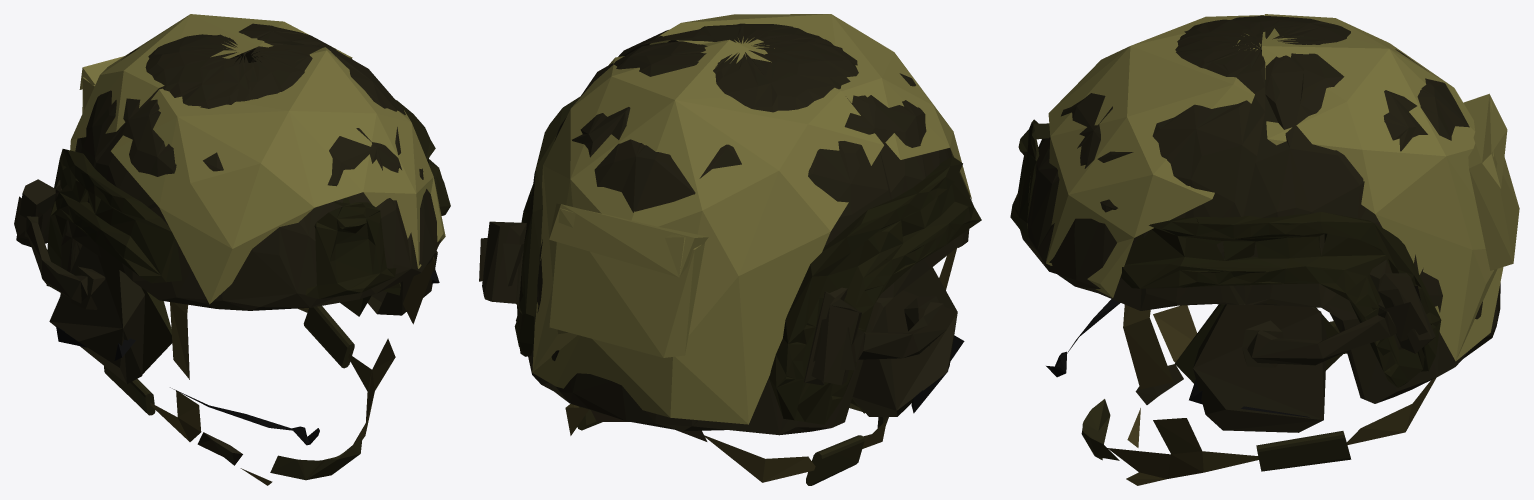
The model's file is HelmetHeadset.obj.
3 renders of one model, left to right at view 1: azimuth 30°, elevation 25°; view 2: azimuth 150°, elevation 25°; view 3: azimuth 270°, elevation 25°, orthographic. The views are drawn at different scales.
Parts seen in each view (by area): view 1: HelmetHeadset_plastictan, HelmetHeadset_camoarmour, HelmetHeadset_olivehardplastic, HelmetHeadset_ziptan, HelmetHeadset_kneepad_strapping, HelmetHeadset_greenplastic, HelmetHeadset_dark_plastic; view 2: HelmetHeadset_camoarmour, HelmetHeadset_plastictan, HelmetHeadset_olivehardplastic, HelmetHeadset_ziptan, HelmetHeadset_kneepad_strapping; view 3: HelmetHeadset_plastictan, HelmetHeadset_camoarmour, HelmetHeadset_olivehardplastic, HelmetHeadset_ziptan, HelmetHeadset_kneepad_strapping, HelmetHeadset_greenplastic, HelmetHeadset_dark_plastic.
Boxes of the visible parts, left/top/right/bottom form: HelmetHeadset_plastictan: left=14, top=23, right=441, bottom=465; HelmetHeadset_camoarmour: left=70, top=14, right=445, bottom=304; HelmetHeadset_olivehardplastic: left=46, top=100, right=450, bottom=299; HelmetHeadset_ziptan: left=150, top=256, right=435, bottom=485; HelmetHeadset_kneepad_strapping: left=104, top=306, right=362, bottom=480; HelmetHeadset_greenplastic: left=142, top=283, right=400, bottom=374; HelmetHeadset_dark_plastic: left=56, top=269, right=439, bottom=445; HelmetHeadset_camoarmour: left=532, top=14, right=971, bottom=424; HelmetHeadset_plastictan: left=479, top=23, right=969, bottom=435; HelmetHeadset_olivehardplastic: left=514, top=97, right=981, bottom=424; HelmetHeadset_ziptan: left=565, top=248, right=956, bottom=482; HelmetHeadset_kneepad_strapping: left=577, top=399, right=864, bottom=485; HelmetHeadset_plastictan: left=1020, top=15, right=1500, bottom=432; HelmetHeadset_camoarmour: left=1046, top=14, right=1519, bottom=361; HelmetHeadset_olivehardplastic: left=1010, top=119, right=1441, bottom=387; HelmetHeadset_ziptan: left=1107, top=304, right=1436, bottom=485; HelmetHeadset_kneepad_strapping: left=1081, top=321, right=1351, bottom=471; HelmetHeadset_greenplastic: left=1175, top=304, right=1344, bottom=383; HelmetHeadset_dark_plastic: left=1046, top=299, right=1309, bottom=417.
Size of the model in its own units: 0.2559 by 0.2671 by 0.2883.
